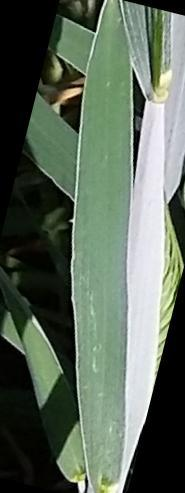Wheat: (66, 168, 136, 366), (79, 51, 129, 164), (74, 384, 128, 488)
